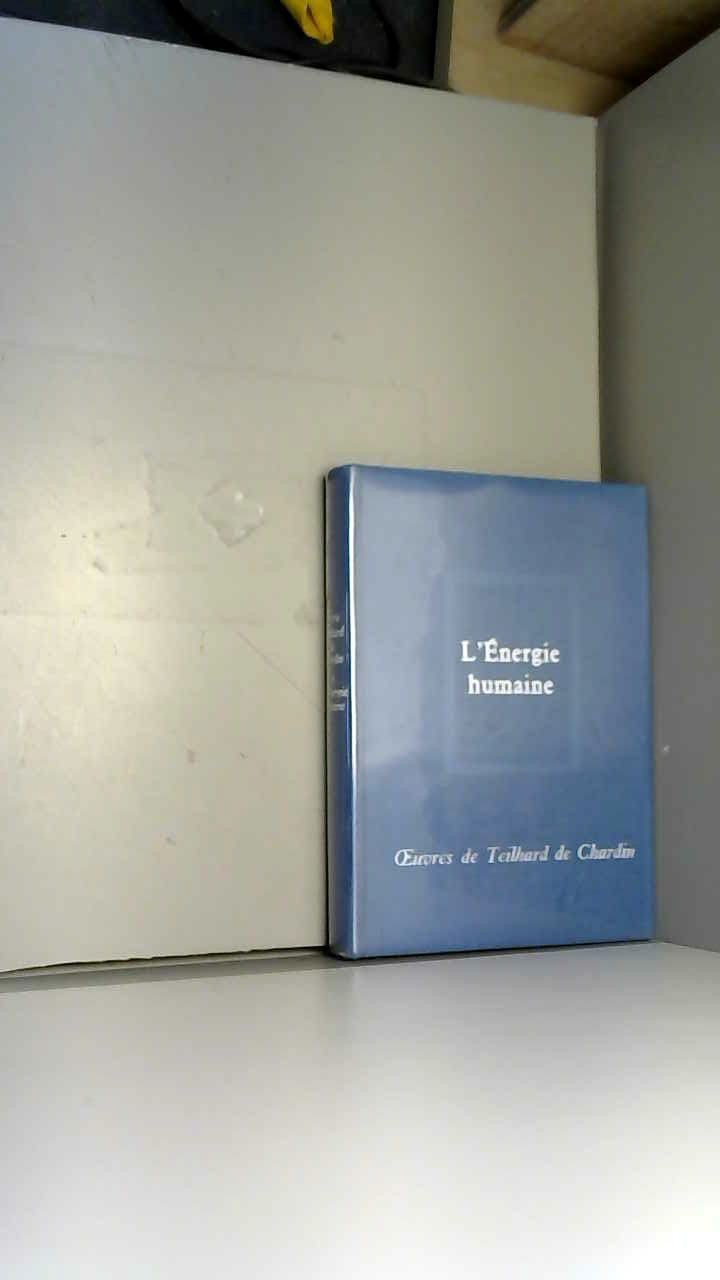book: (289, 425, 694, 996)
